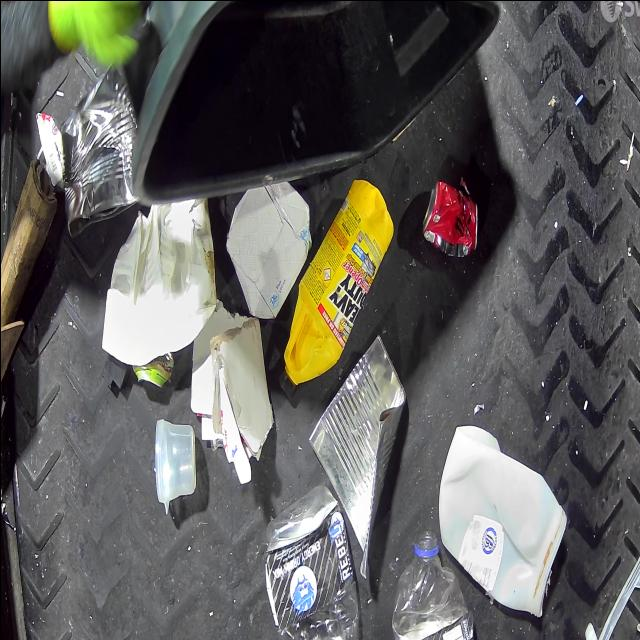can: (60, 60, 136, 238), (422, 176, 478, 258), (134, 352, 174, 386)
milk_jug: (438, 426, 566, 616)
non_white_jug: (275, 174, 391, 392)
plastic_bottle: (264, 481, 359, 640), (391, 530, 476, 640)
